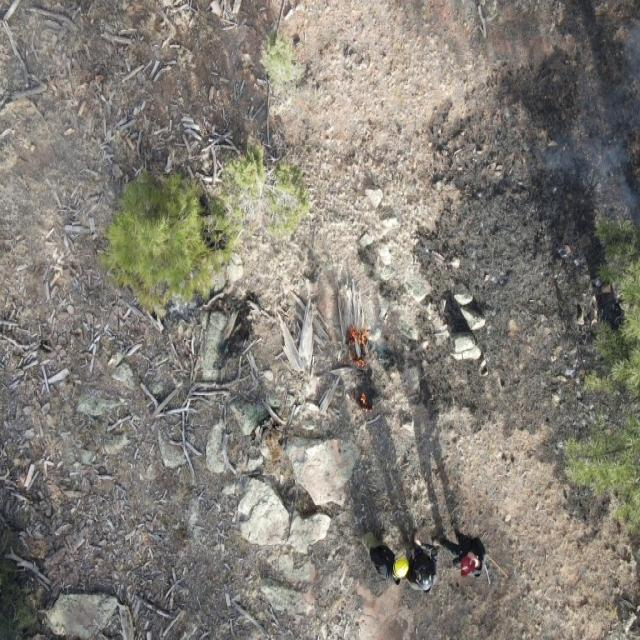fire: (346, 327, 372, 372), (352, 392, 376, 414)
smoke: (0, 0, 126, 258), (515, 0, 640, 229), (274, 252, 406, 376)
